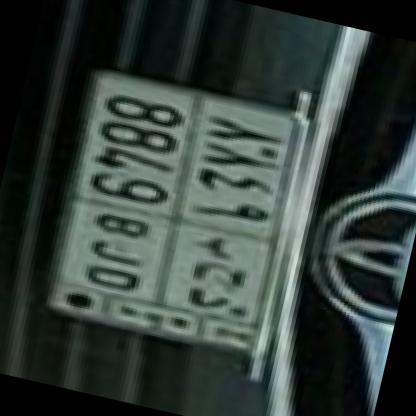english: (52, 66, 210, 314)
